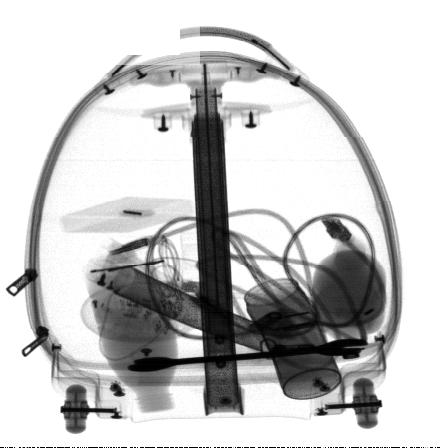Wrench: (127, 338, 369, 372)
